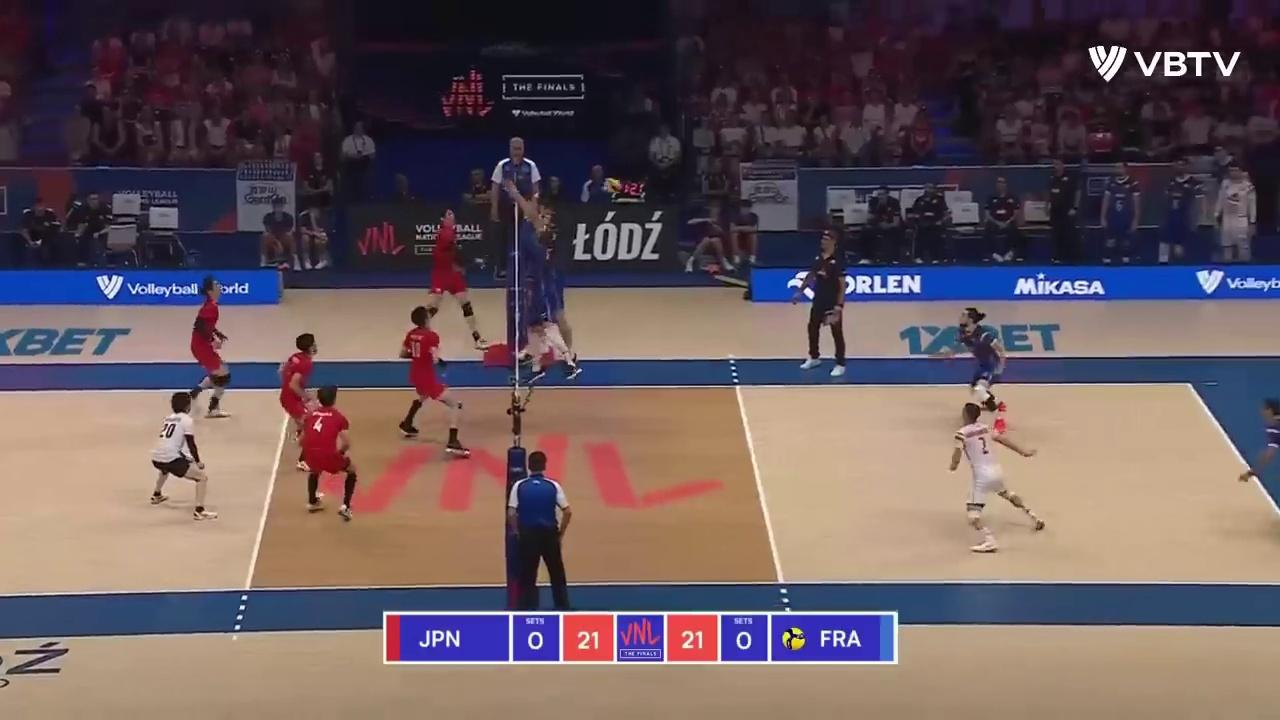ball: (606, 177, 621, 192)
